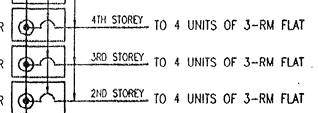Single Phase Tap-Off Unit: (5, 76, 74, 113), (9, 5, 72, 44), (5, 45, 70, 80)
